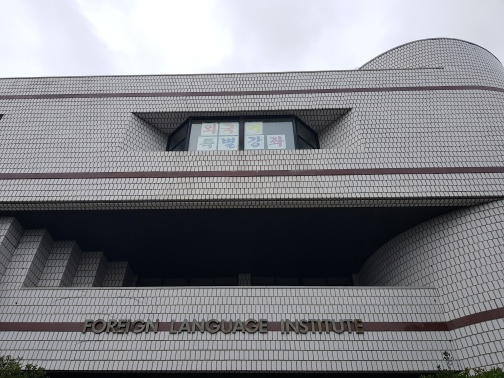Foreign Language Institute: (15, 19, 497, 368), (149, 89, 320, 173), (74, 305, 379, 352)
